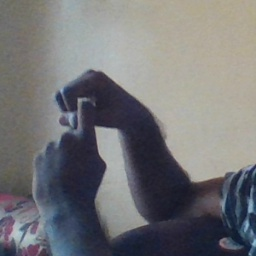Q: (25, 66, 136, 203)
